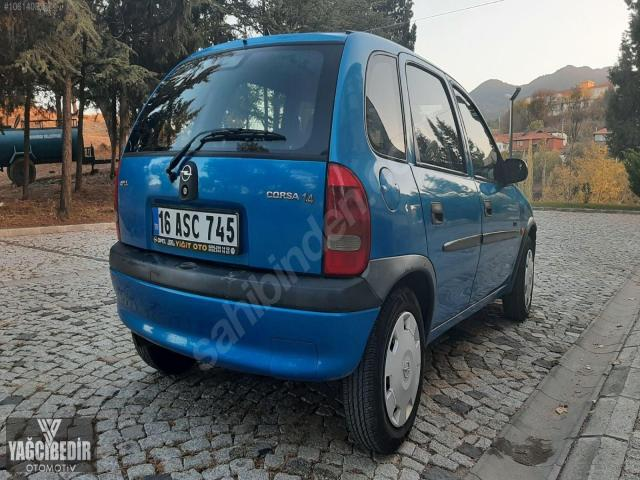plaka: (153, 206, 238, 254)
